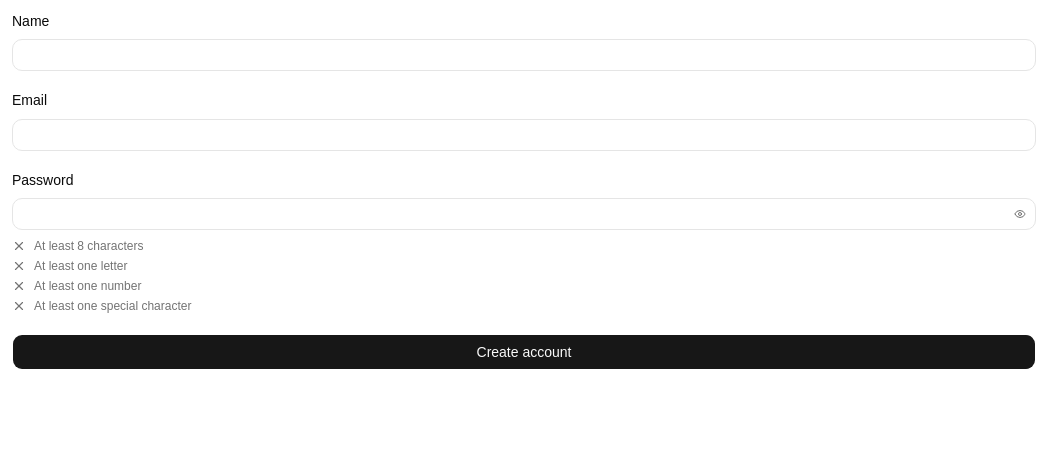
SignUpForm › shows validation errors and does not submit when the form is invalid
Click the button "Create account".
click(524, 352)  # box [12,334,1036,370]
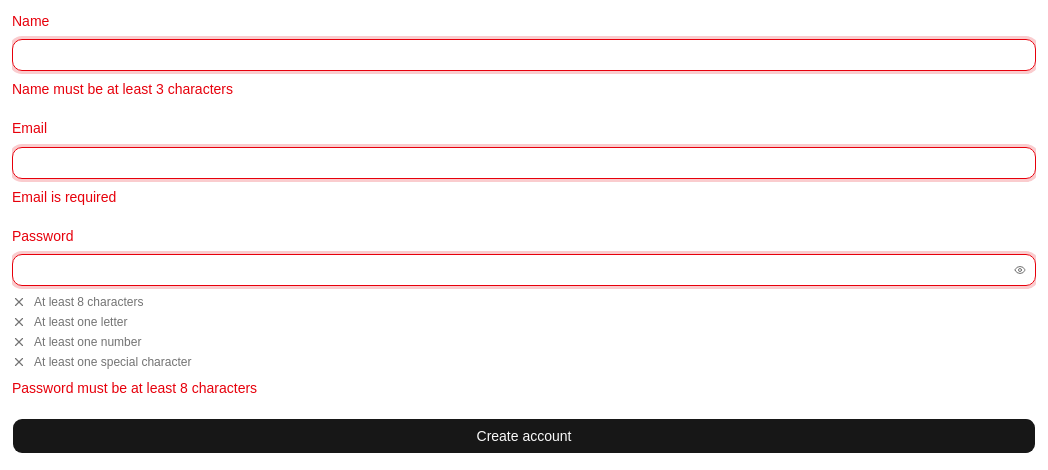
Result: the text "Name must be at least 3 characters" is shown at [12,81,233,97]
Result: the text "Email is required" is shown at [12,188,116,204]
Result: the text "Password must be at least 8 characters" is shown at [12,380,257,396]
